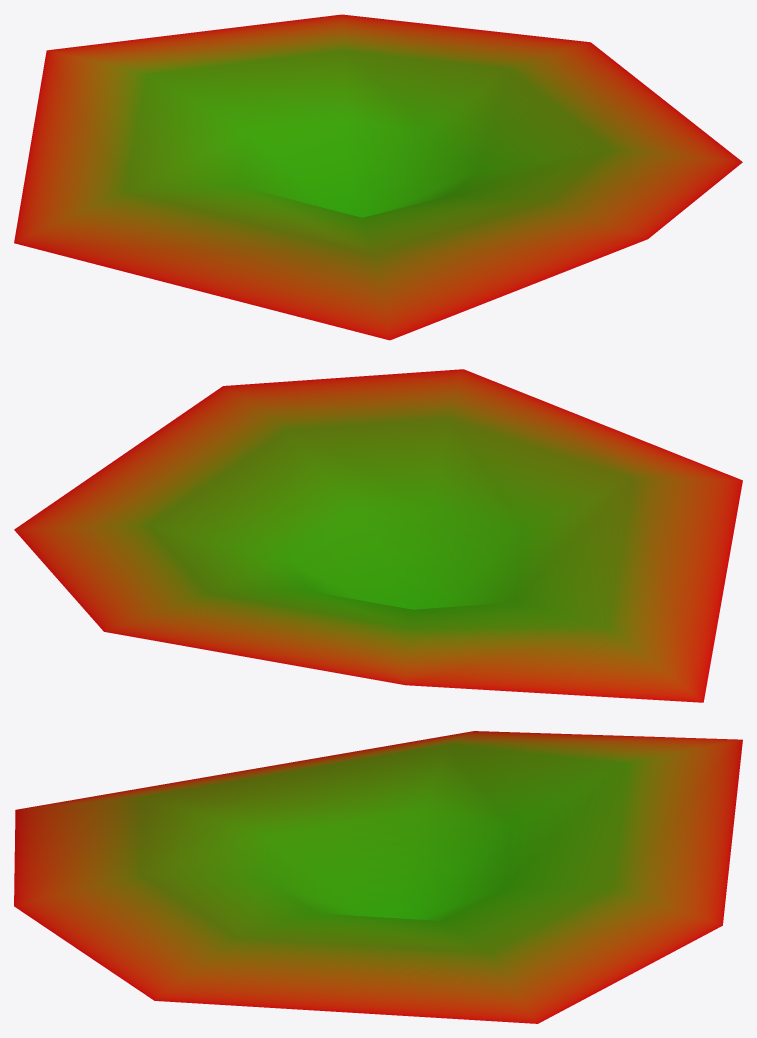
The model's file is Cape Weed_LOD4_Var3_tjmhfcyia.fbx.
3 renders of one model, top to bottom at view 1: azimuth 30°, elevation 25°; view 2: azimuth 150°, elevation 25°; view 3: azimuth 270°, elevation 25°, orthographic. The views are drawn at different scales.
Visible parts, largest first — view 1: _36d3_Var3_LOD4; view 2: _36d3_Var3_LOD4; view 3: _36d3_Var3_LOD4.
Boxes of the visible parts, <box> form: _36d3_Var3_LOD4: <box>14,14,742,340</box>; _36d3_Var3_LOD4: <box>14,369,742,702</box>; _36d3_Var3_LOD4: <box>14,731,742,1023</box>.
Size of the model in its own units: 38.06 by 5.95 by 35.65.
